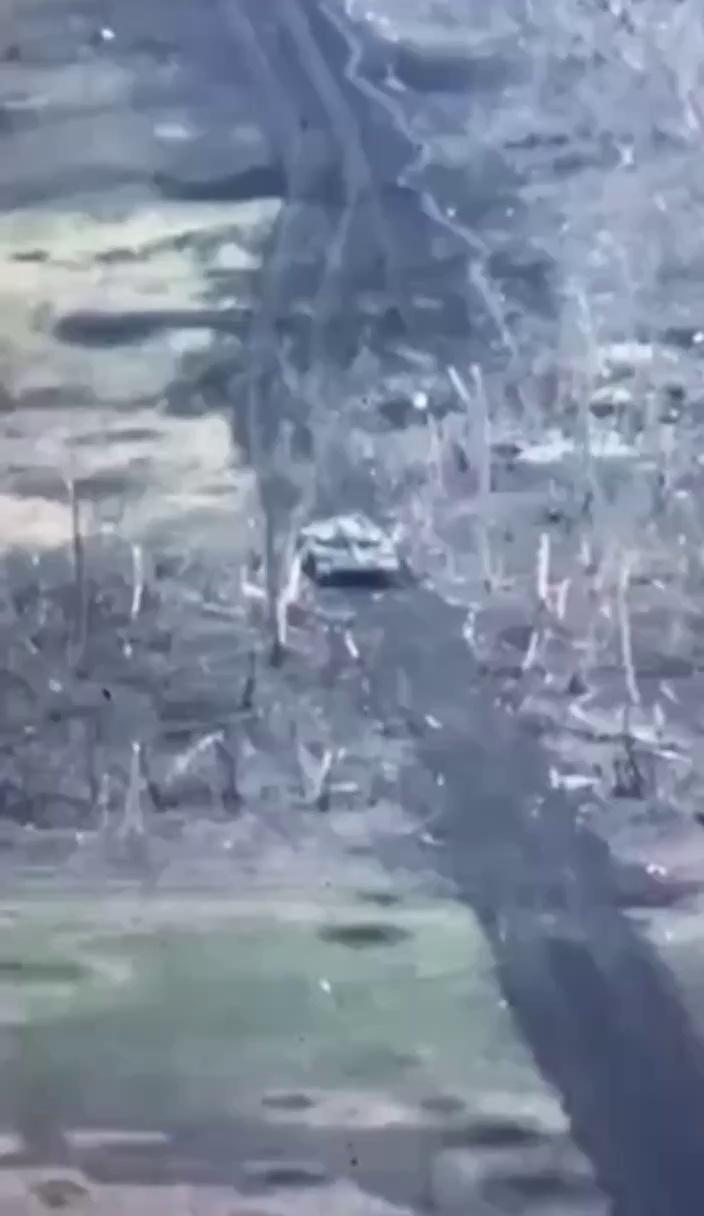vehicle: (294, 514, 404, 590)
